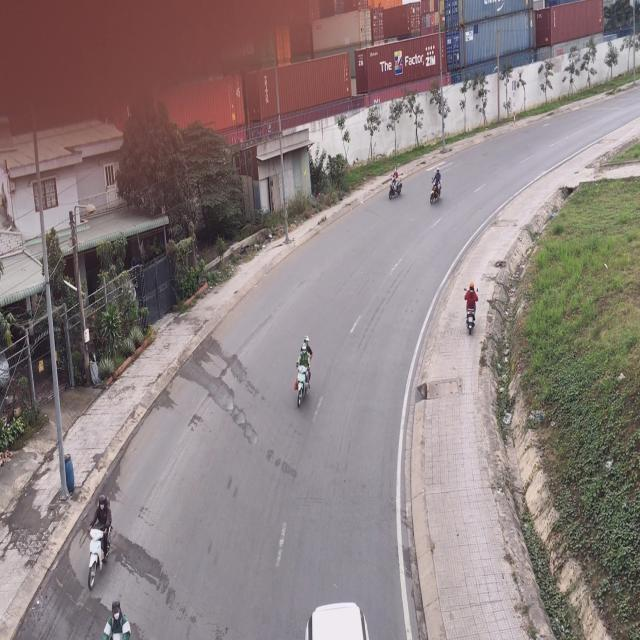motorbike: (89, 494, 115, 583), (293, 334, 312, 410), (462, 285, 477, 337), (428, 165, 442, 207), (388, 164, 402, 202)
